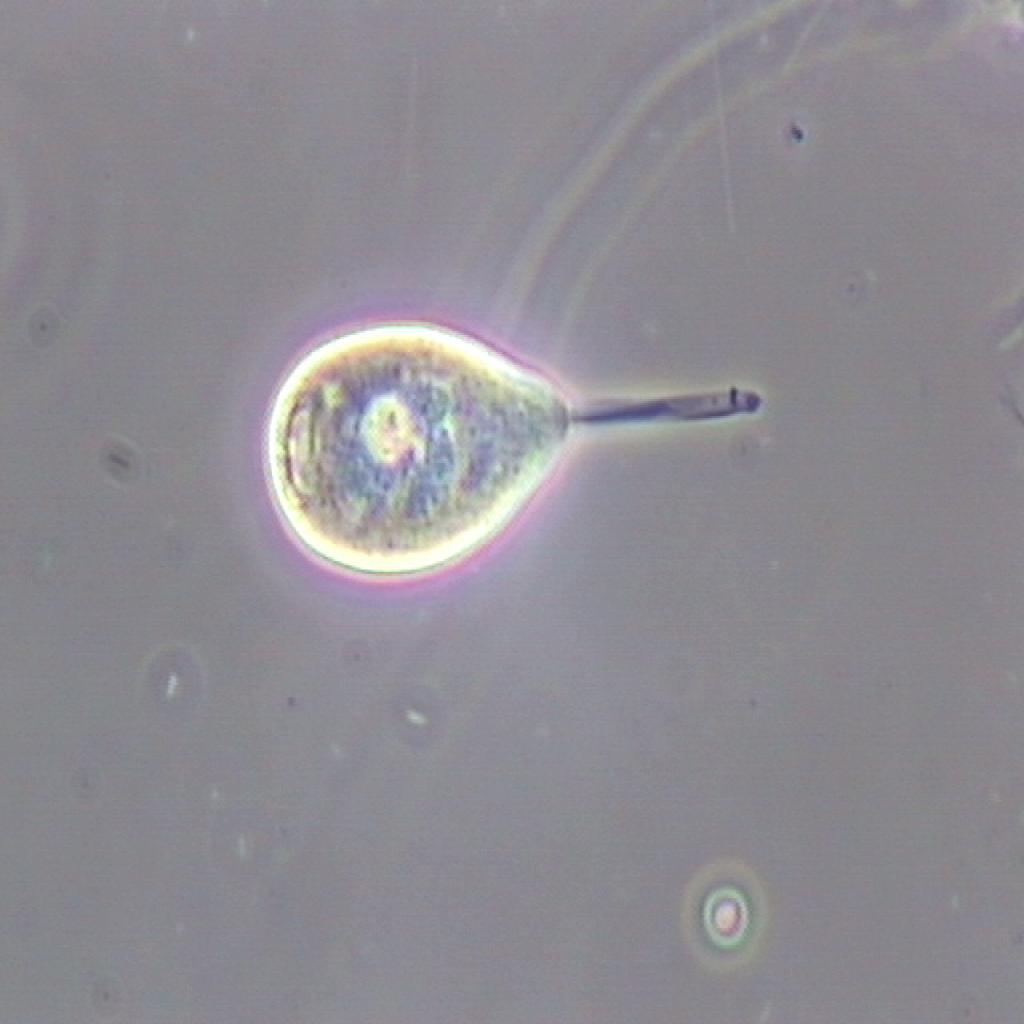Vorticella: (232, 266, 781, 664)
